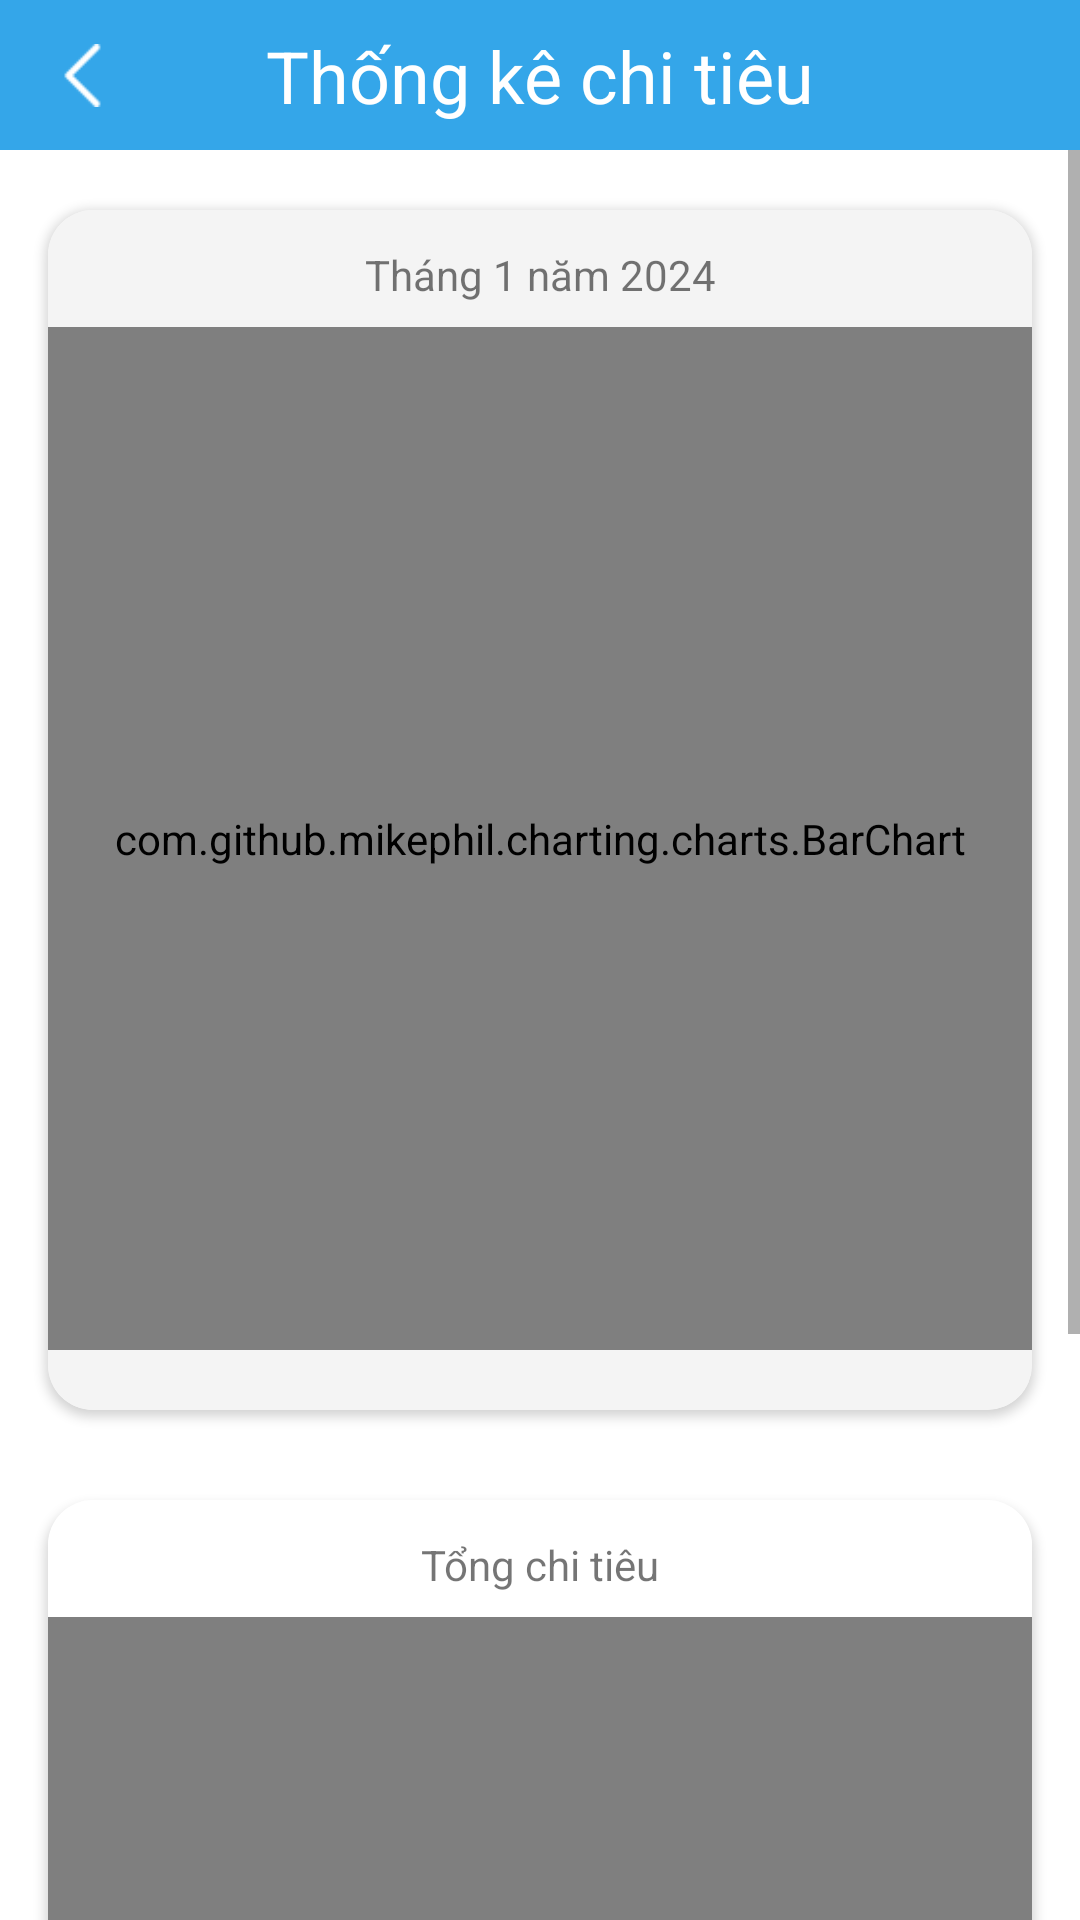

Icon click points for this 1080px x 1920px phone screenshot, format (x,y):
back: (82,75)
